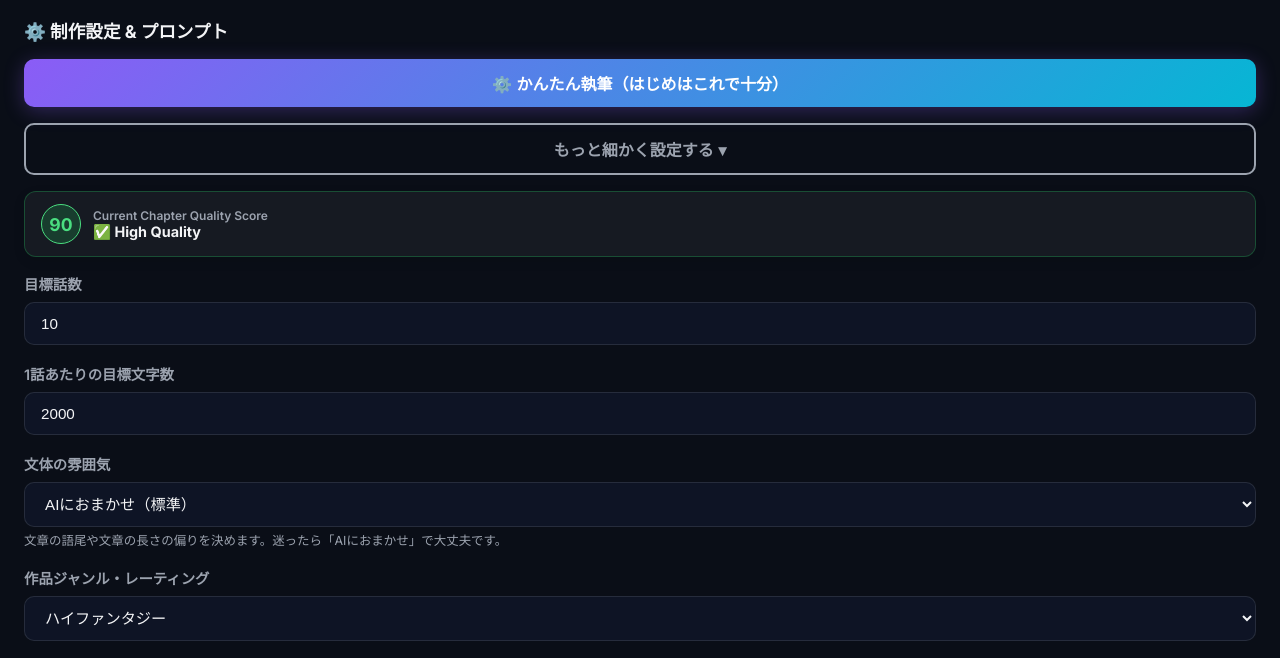
S3: ORCHESTRA モードへ到達できる › 「かんたん執筆」に戻せる
Click the button with test id "btn-show-advanced-modes" at (640, 149), box [24,123,1256,175]
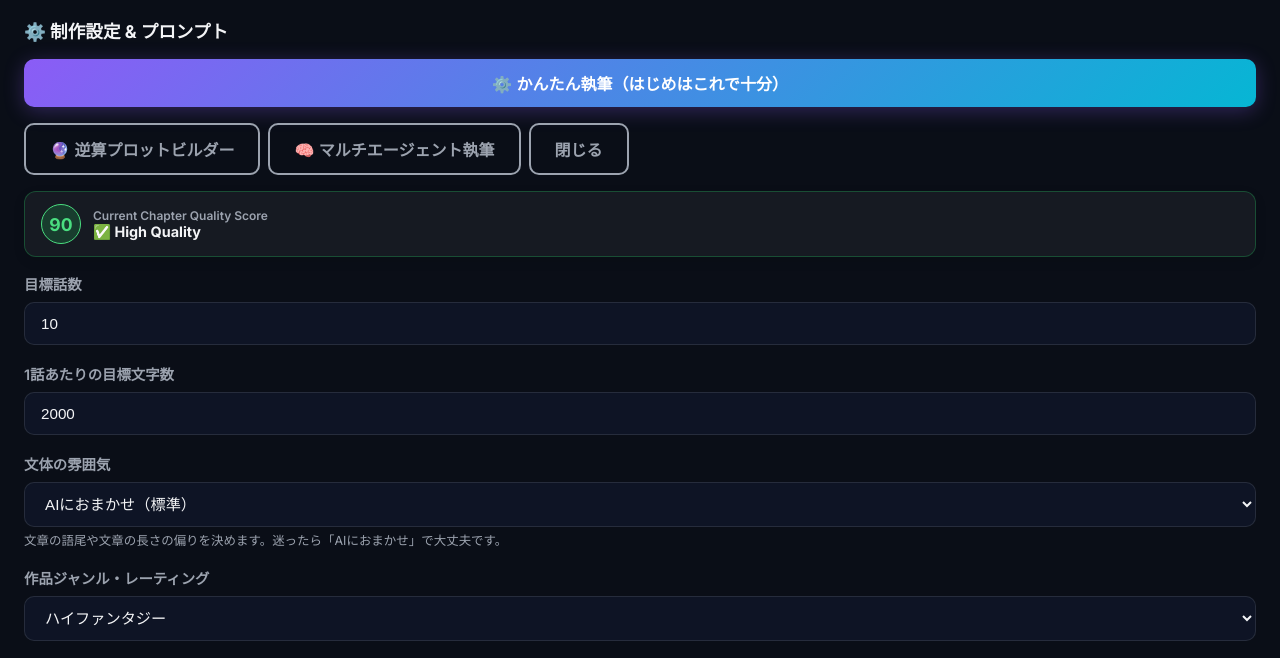
Click the button with test id "btn-submode-orchestrated" at (394, 149), box [268,123,520,175]
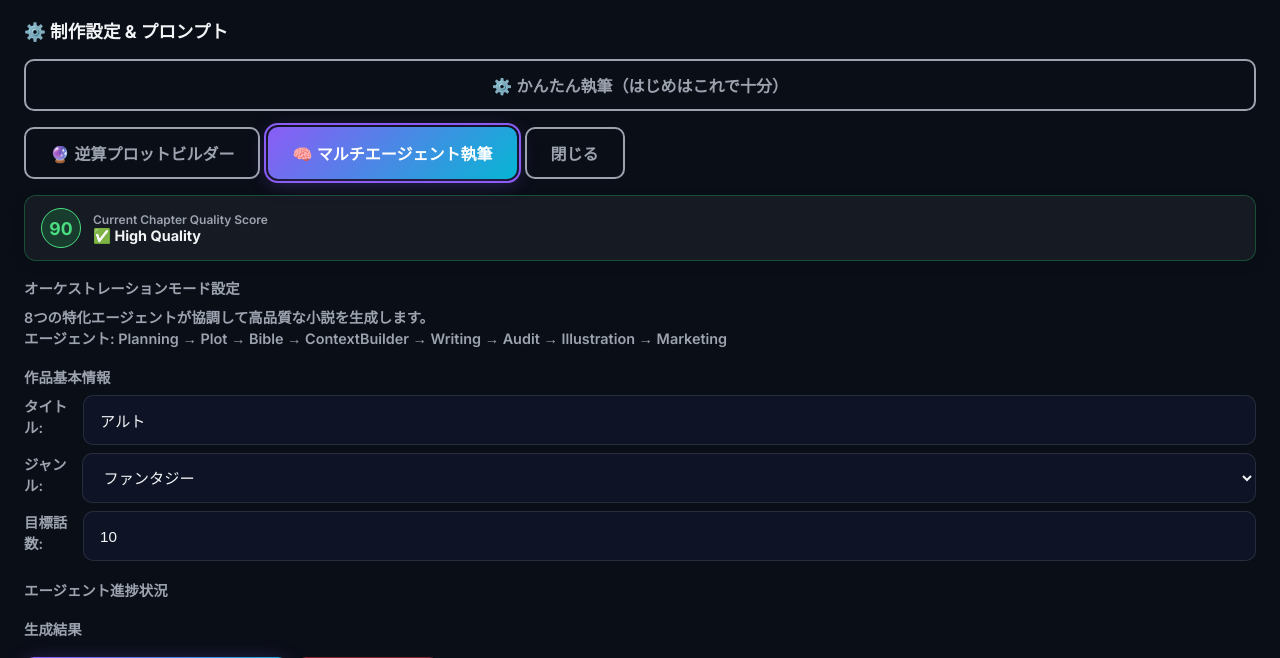
Click the button with test id "btn-submode-simple" at (640, 85), box [24,59,1256,111]
(page scrolled)
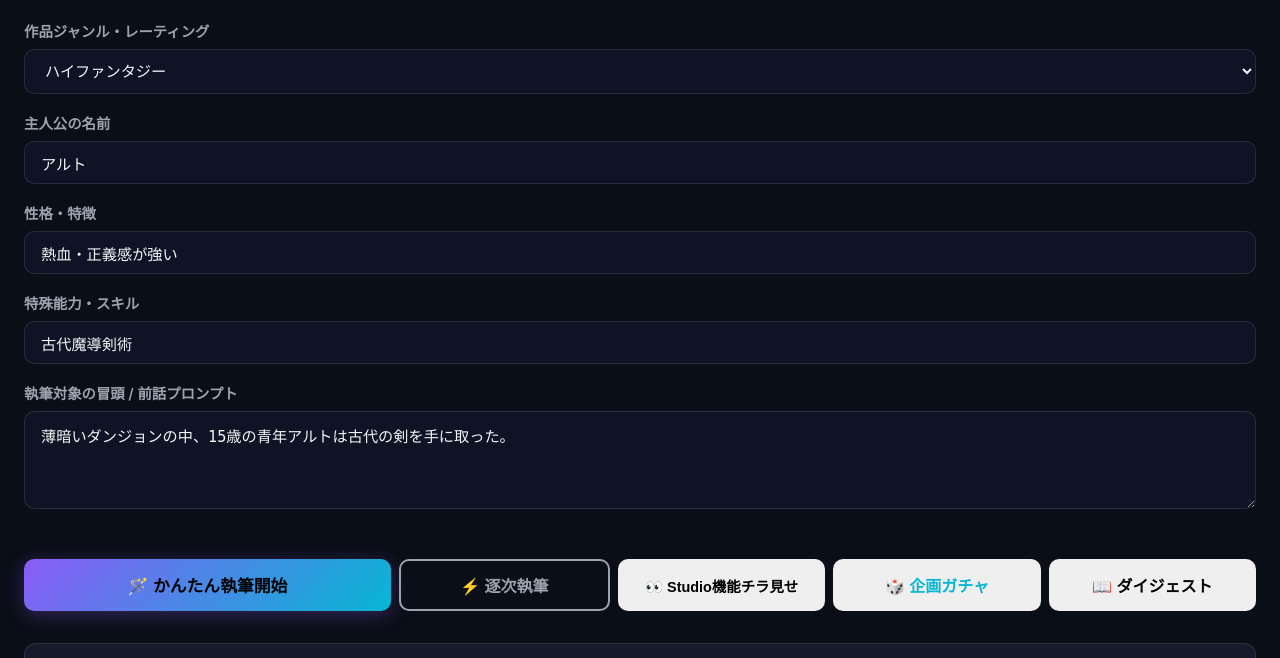
Expected: the button with test id "btn-easy-generate" is shown, [24,559,391,611]
